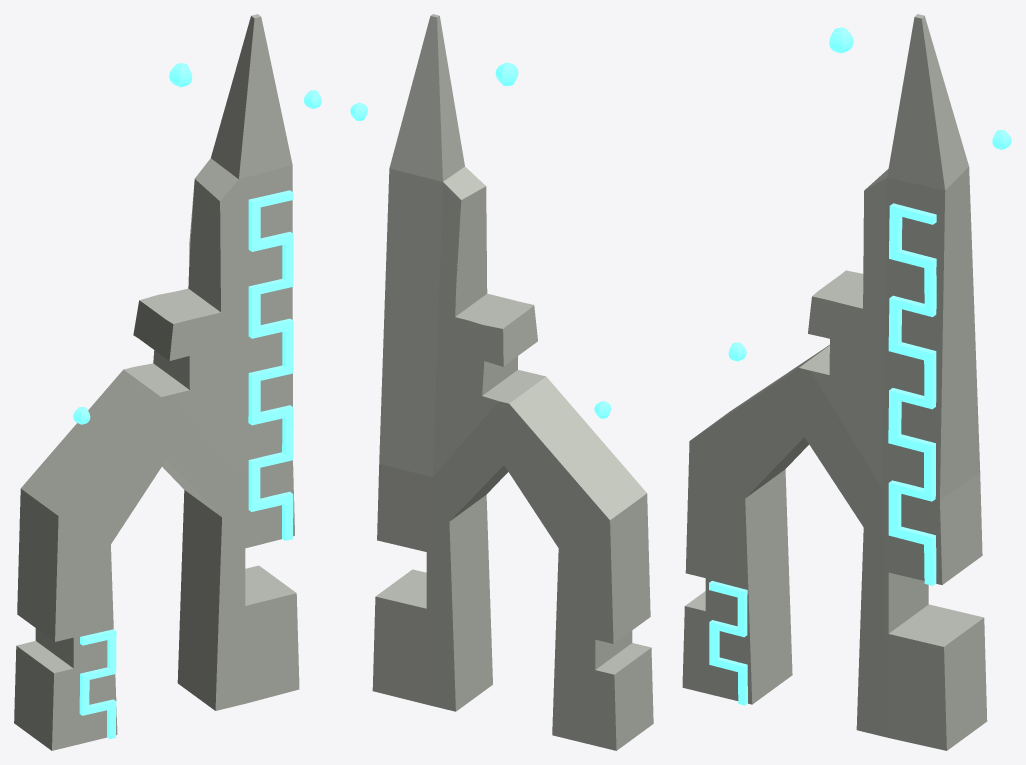
Rendered from Ruine_2.fbx.
3 views of the same model, side by side, from view 1: azimuth 30°, elevation 25°; view 2: azimuth 150°, elevation 25°; view 3: azimuth 330°, elevation 25° (orthographic). The views are drawn at different scales.
Visible parts, largest first — view 1: Ruine 2 -1; view 2: Ruine 2 -1; view 3: Ruine 2 -1.
Boxes of the visible parts, bbox=[...] form: Ruine 2 -1: bbox=[14, 14, 321, 750]; Ruine 2 -1: bbox=[350, 14, 653, 750]; Ruine 2 -1: bbox=[682, 14, 1011, 750].
Bounding box in the file's own units: 308 × 690 × 77.4.
